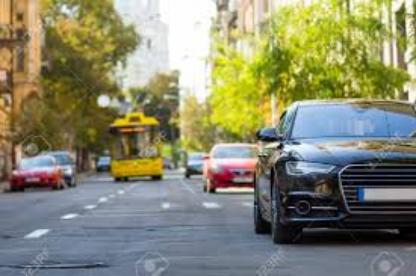car: (249, 96, 416, 252), (200, 142, 264, 195), (3, 152, 64, 190)
